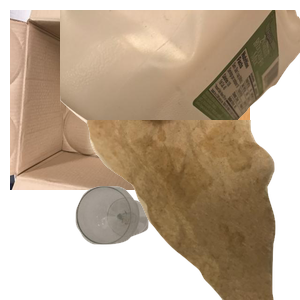cardboard: (10, 10, 250, 190)
glass: (73, 184, 214, 300)
plastic: (60, 10, 300, 160)
trash: (84, 120, 300, 300)
